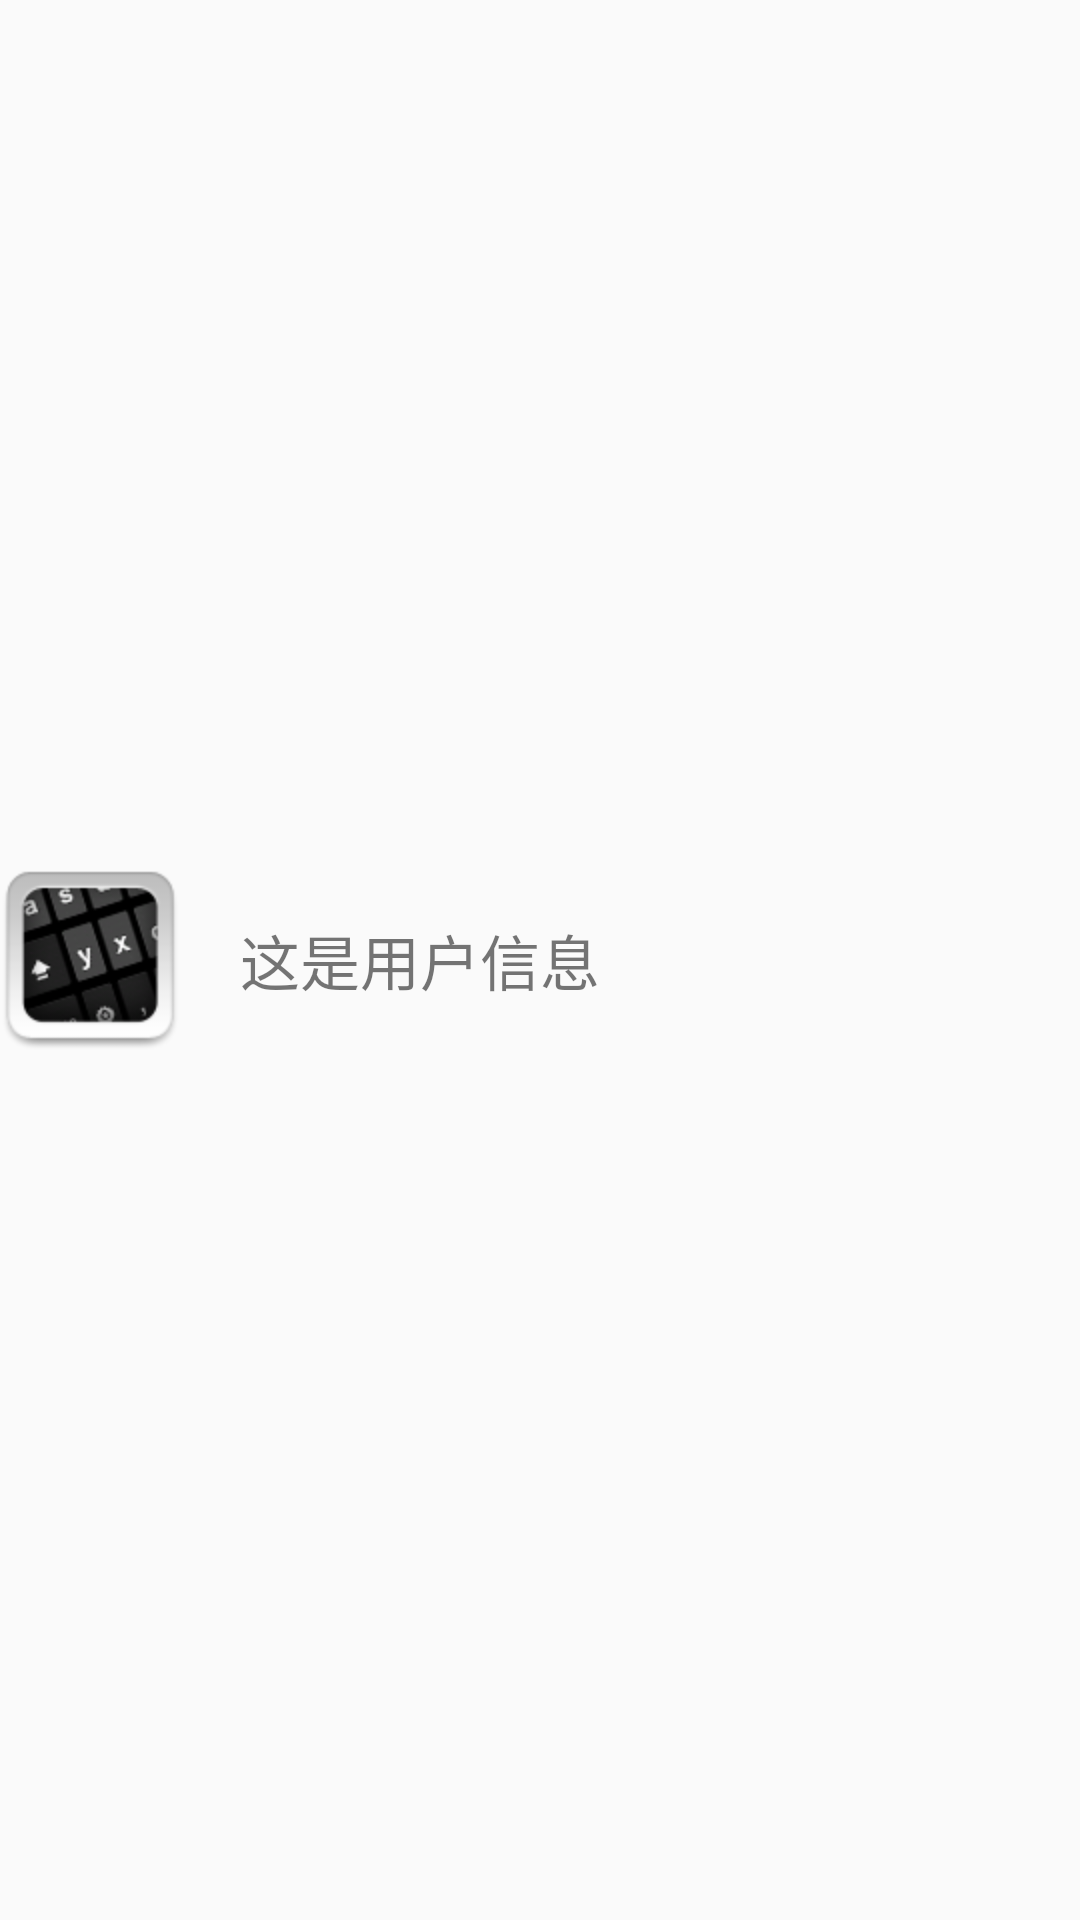

Icon click points for this 1080x1920 phone screenshot, format (x,y):
app: (90,958)
